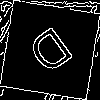D: (25, 25, 81, 83)
